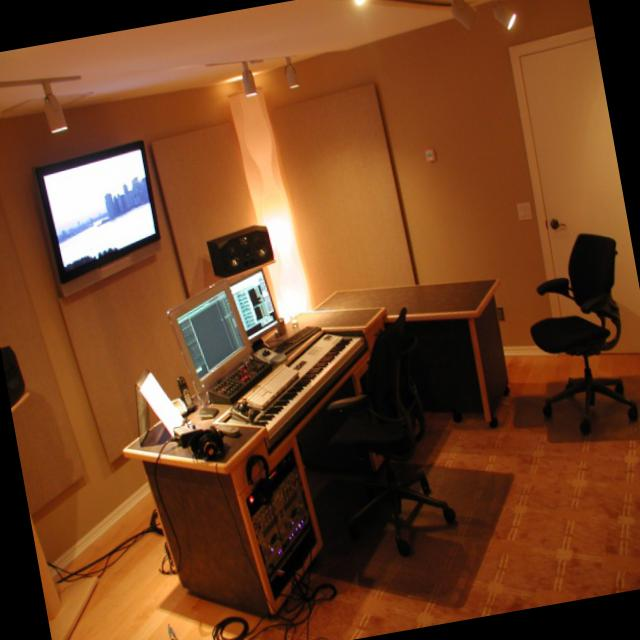desk calendar: (122, 304, 413, 618), (313, 275, 510, 423)
door bars: (521, 35, 640, 353)
floor -X: (41, 331, 640, 640)
keyboard crop: (225, 329, 369, 446)
lamp crop: (239, 91, 309, 312), (45, 79, 67, 132), (450, 0, 477, 29), (241, 57, 257, 96), (494, 0, 516, 28), (286, 52, 299, 85)
monitor crop: (230, 265, 281, 339)
screen occluded: (35, 138, 160, 281), (169, 277, 253, 390)
switch: (516, 198, 533, 219)
swivel chair crop: (325, 305, 456, 555), (531, 229, 638, 432)
wall clock: (236, 0, 640, 351), (0, 85, 290, 573)
